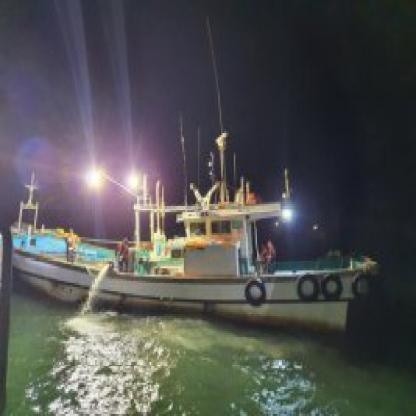fish-b: (0, 123, 388, 343)
